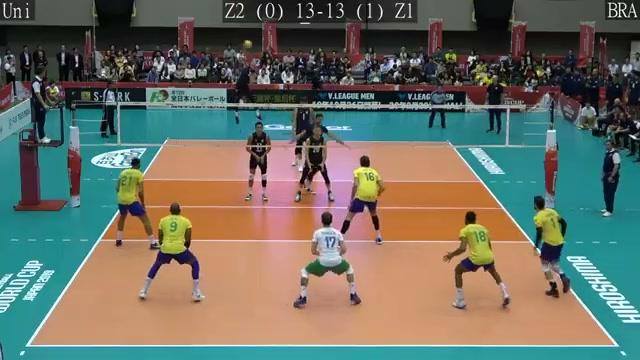ball: (243, 39, 254, 50)
